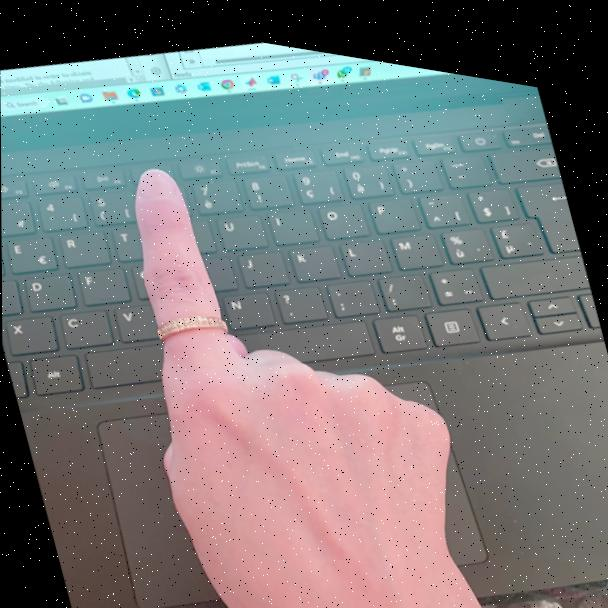one: (74, 79, 505, 608)
